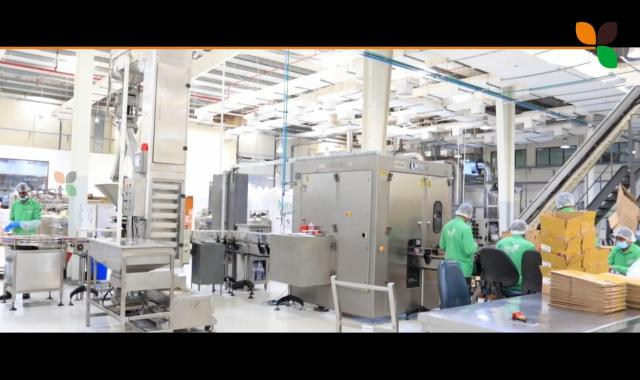hairnet: (555, 189, 573, 210), (612, 228, 634, 244), (457, 200, 472, 220), (511, 219, 528, 234), (15, 182, 30, 196)
